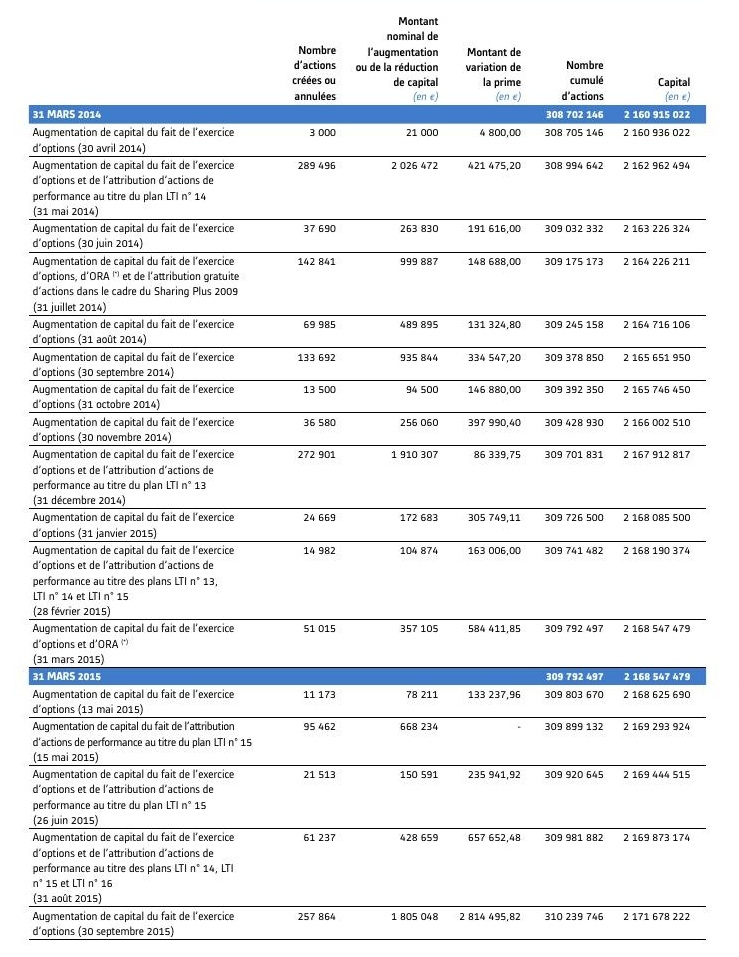table: (0, 0, 739, 957)
